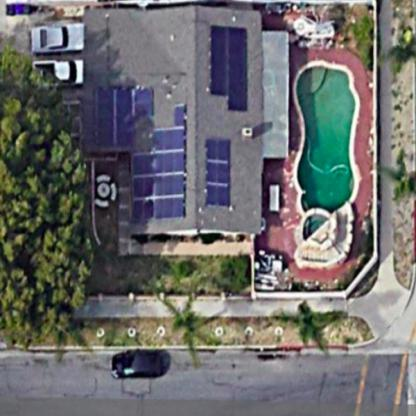car: (31, 18, 93, 57), (25, 55, 94, 85), (110, 349, 170, 381)
solar_panel: (126, 99, 195, 224), (84, 80, 157, 153), (208, 17, 255, 115), (197, 128, 234, 215)
swimming_pool: (284, 50, 364, 264)
